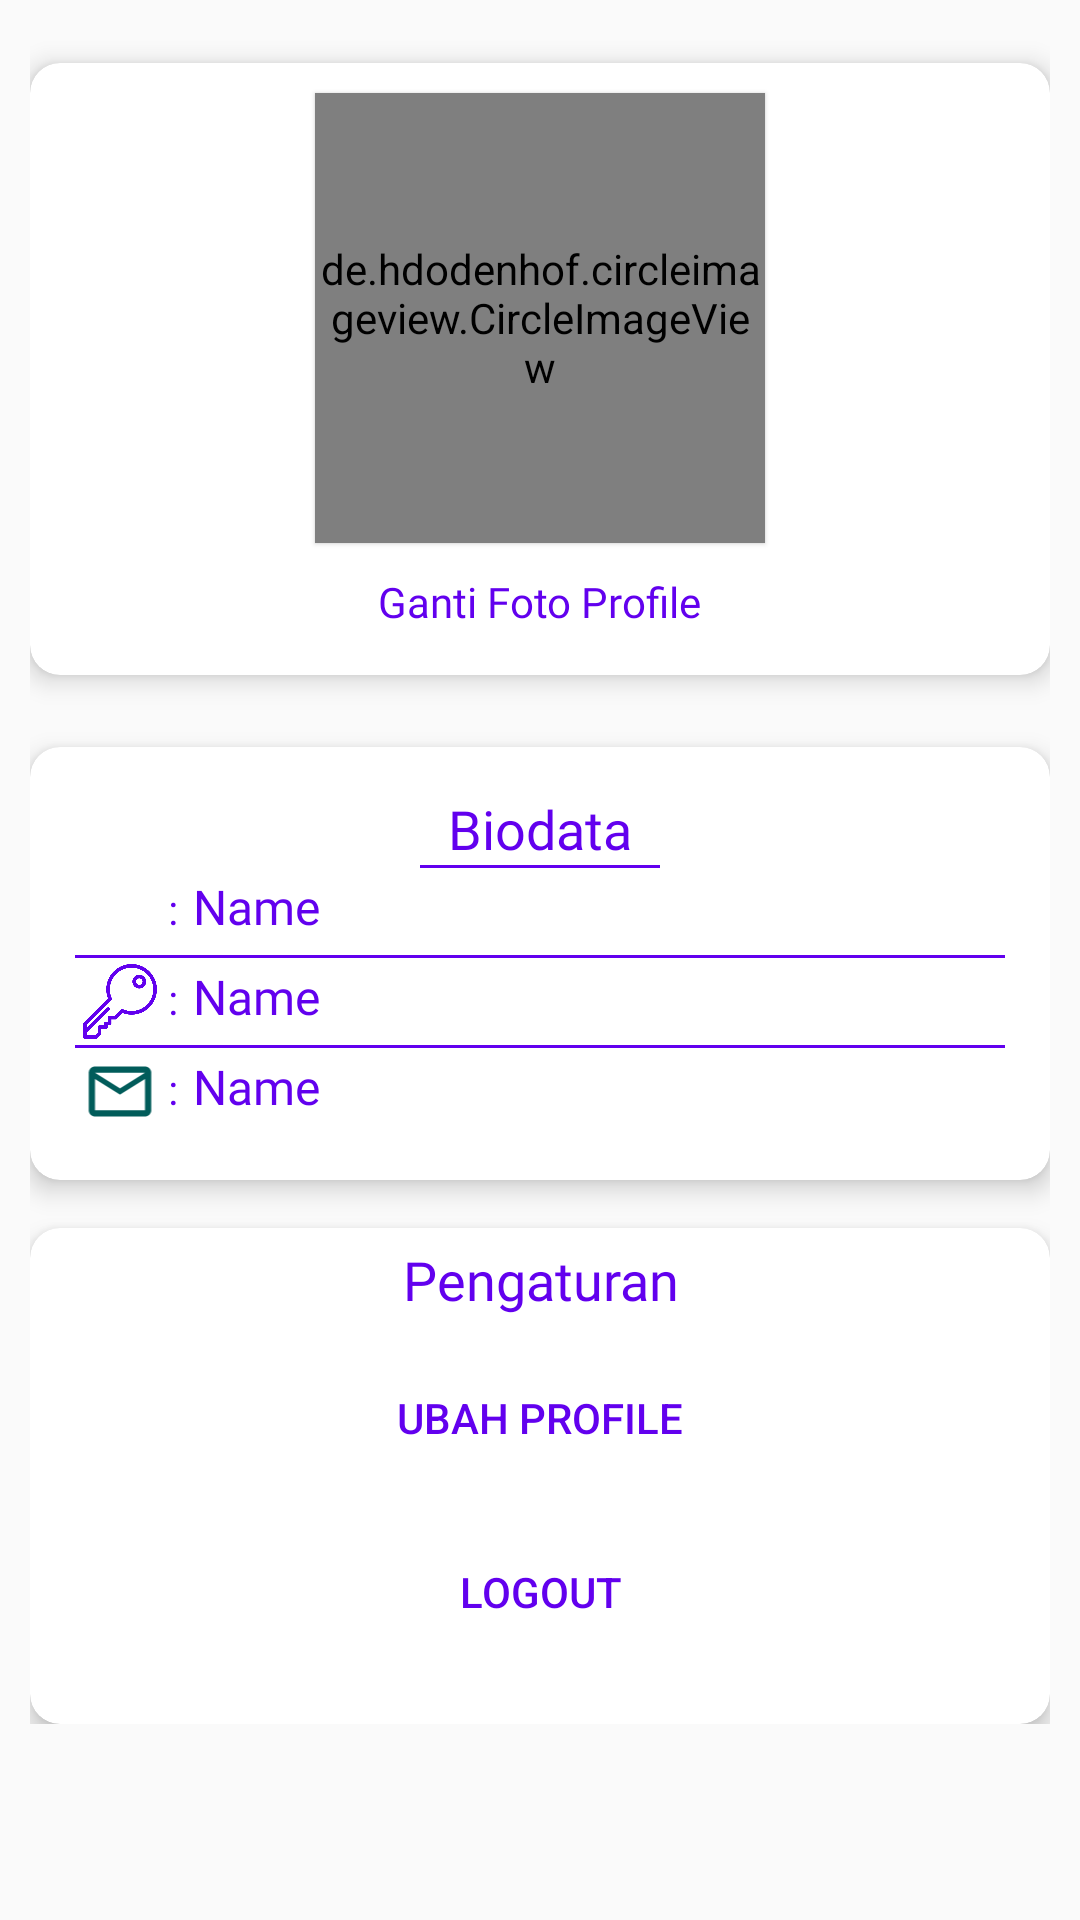

Icon bounding boxes for this 1080*1920 phone screenshot, format (x1, y1, x2, y2):
key: (83, 964, 157, 1039)
mail: (88, 1066, 152, 1117)
